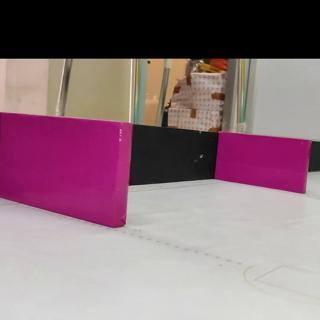xparking: (1, 124, 126, 216), (217, 141, 306, 187)
